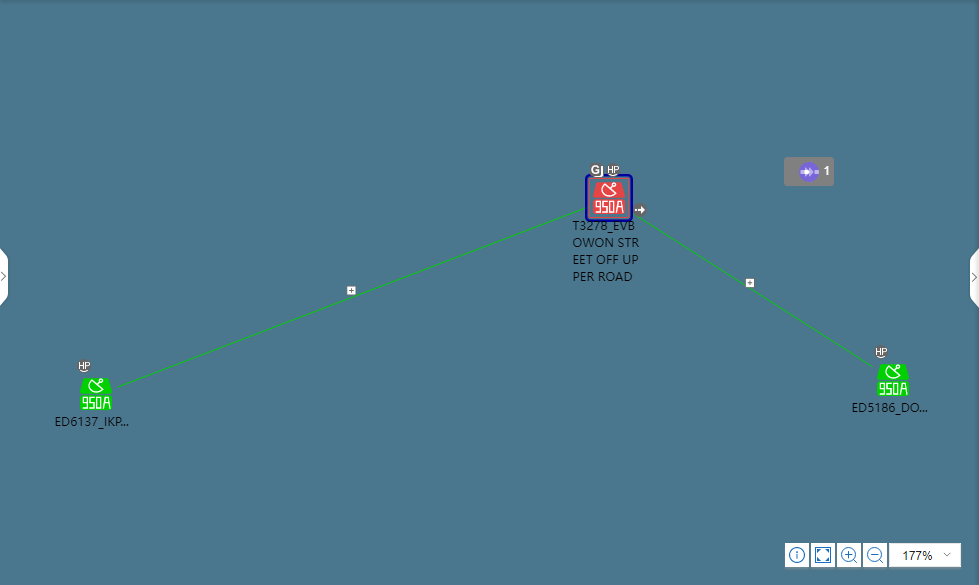Link_Green: (113, 204, 589, 392), (633, 216, 872, 374)
RTN_Green: (878, 363, 913, 395), (83, 381, 110, 410)
RTN_Red: (590, 179, 632, 221)
